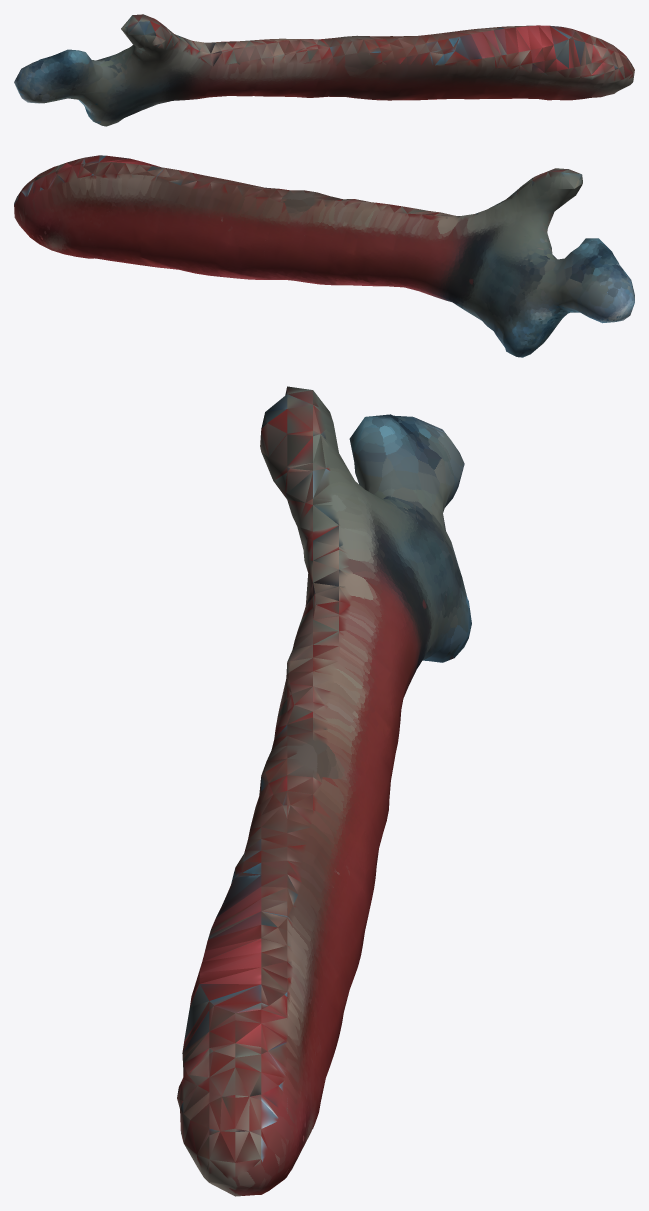
The model's file is wrench_new.obj.
3 renders of one model, top to bottom at view 1: azimuth 30°, elevation 25°; view 2: azimuth 150°, elevation 25°; view 3: azimuth 270°, elevation 25°, orthographic. The views are drawn at different scales.
Bounding box in the file's own units: 0.2439 × 0.0743 × 0.0548.
